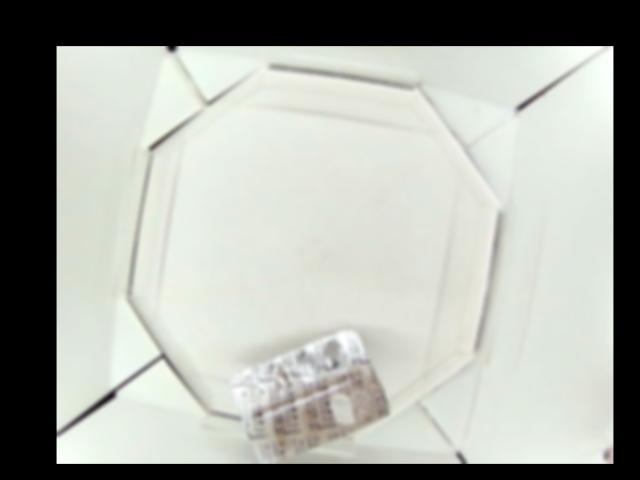Medicine: (229, 324, 388, 462)
